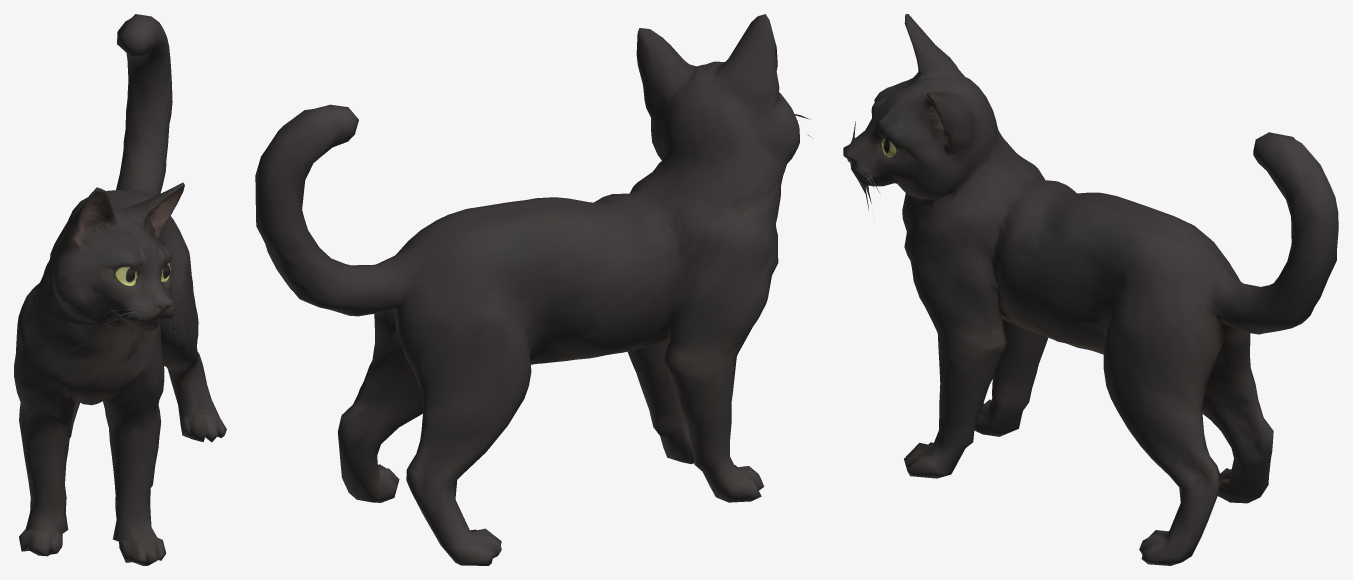
The model's file is CHR_OTHER_NPCS_CAT_v001_RAW.glb.
The picture shows the model from 3 angles, left to right: view 1: azimuth 30°, elevation 25°; view 2: azimuth 150°, elevation 25°; view 3: azimuth 270°, elevation 25°; orthographic projection. The views are drawn at different scales.
Visible parts, largest first — view 1: tripo_node_0176769f-ea01-47ac-9712-efd546696b0d; view 2: tripo_node_0176769f-ea01-47ac-9712-efd546696b0d; view 3: tripo_node_0176769f-ea01-47ac-9712-efd546696b0d.
Boxes of the visible parts, x1,y1,x2,y2 form: tripo_node_0176769f-ea01-47ac-9712-efd546696b0d: [14, 14, 226, 565]; tripo_node_0176769f-ea01-47ac-9712-efd546696b0d: [255, 14, 811, 565]; tripo_node_0176769f-ea01-47ac-9712-efd546696b0d: [843, 14, 1338, 565].
Size of the model in its own units: 0.7421 by 0.9393 by 0.9794.
Materials: 1 (1 with a texture image).
